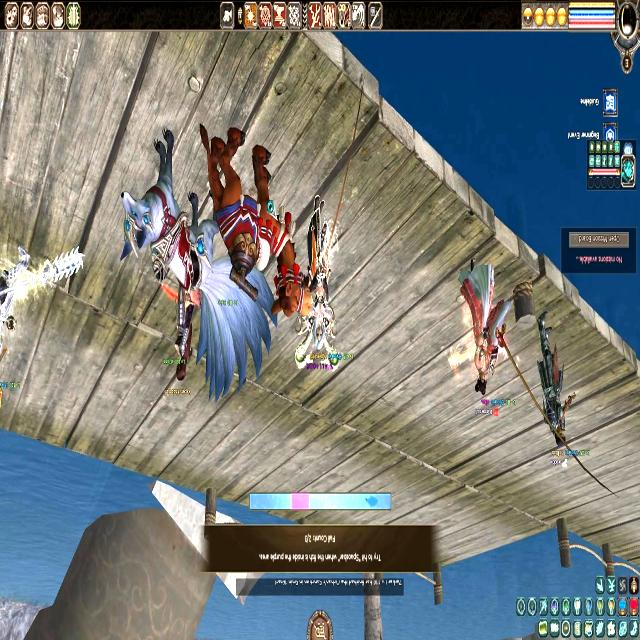fishes: (366, 495, 378, 509)
